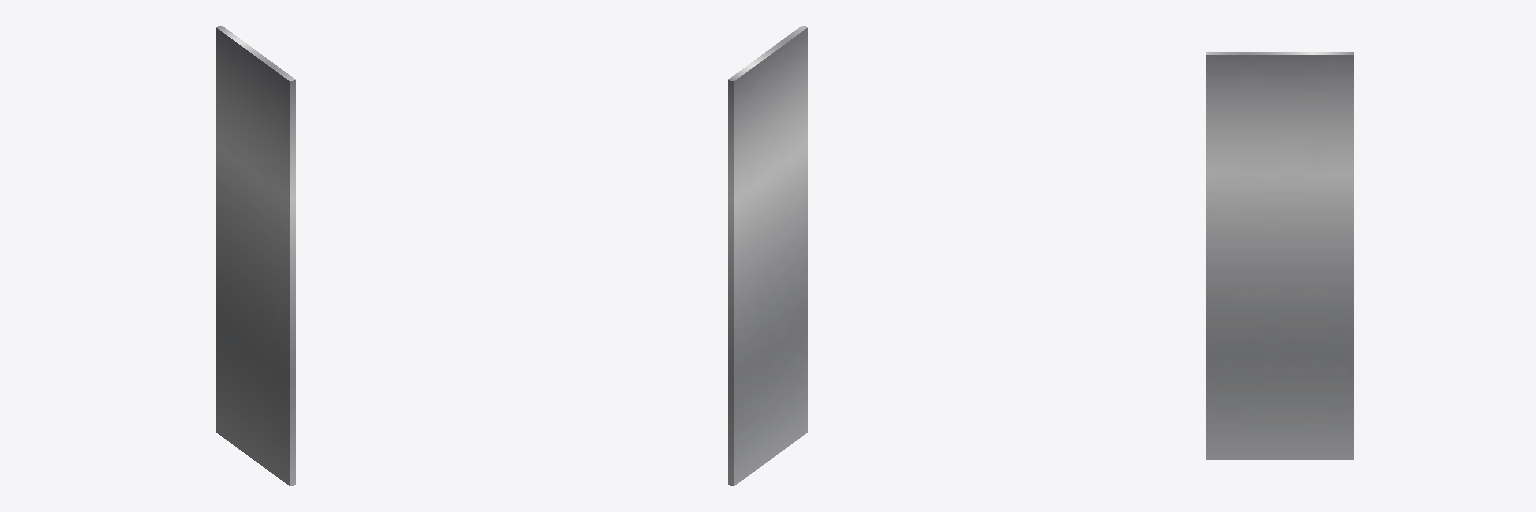
3 renders of one model, left to right at view 1: azimuth 30°, elevation 25°; view 2: azimuth 150°, elevation 25°; view 3: azimuth 270°, elevation 25°, orthographic.
Parts seen in each view (by area): view 1: polySurface9 pCube299; view 2: polySurface9 pCube299; view 3: polySurface9 pCube299.
Part boxes in pixels (bbox=[...]): polySurface9 pCube299: bbox=[216, 26, 295, 485]; polySurface9 pCube299: bbox=[728, 26, 807, 485]; polySurface9 pCube299: bbox=[1206, 52, 1353, 459].
Size of the model in its own units: 5 by 300 by 100.
1 materials, 1 textured.